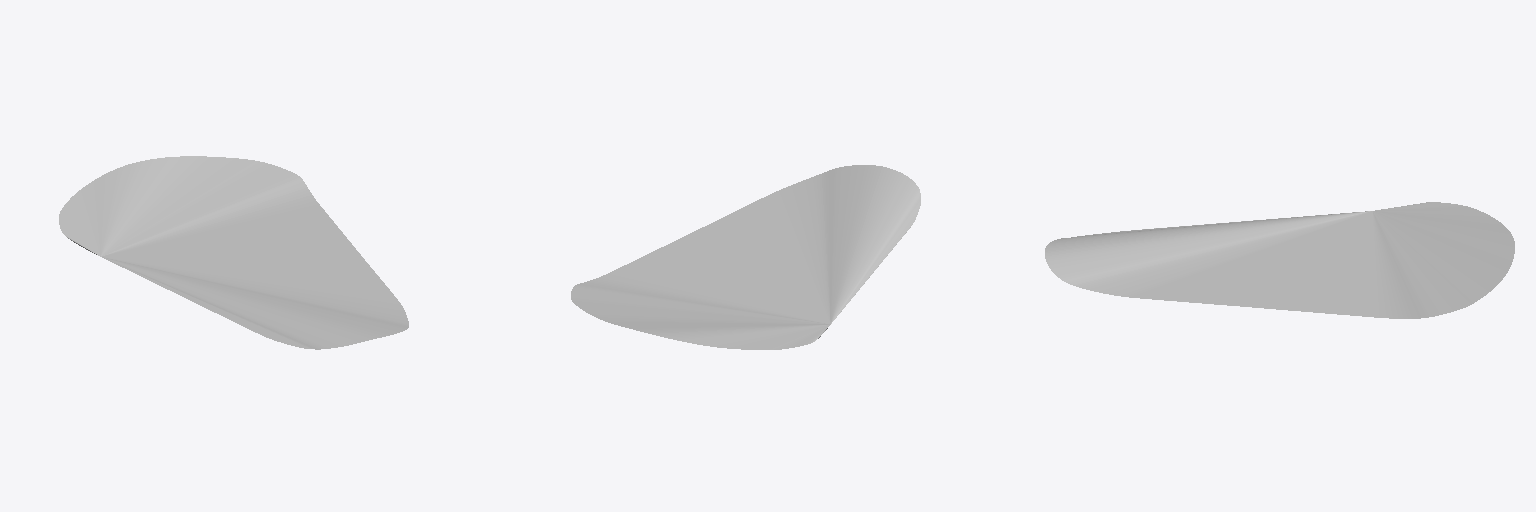
File: AI_waypoints_5.obj
3 views of the same model, side by side, from view 1: azimuth 30°, elevation 25°; view 2: azimuth 150°, elevation 25°; view 3: azimuth 270°, elevation 25° (orthographic).
Parts seen in each view (by area): view 1: Waypoints5_Waypoints1.006; view 2: Waypoints5_Waypoints1.006; view 3: Waypoints5_Waypoints1.006.
Boxes of the visible parts, x1=… form: Waypoints5_Waypoints1.006: x1=59, y1=156, x2=408, y2=349; Waypoints5_Waypoints1.006: x1=571, y1=165, x2=920, y2=349; Waypoints5_Waypoints1.006: x1=1045, y1=202, x2=1514, y2=318.
Size of the model in its own units: 182 by 11.9 by 314.